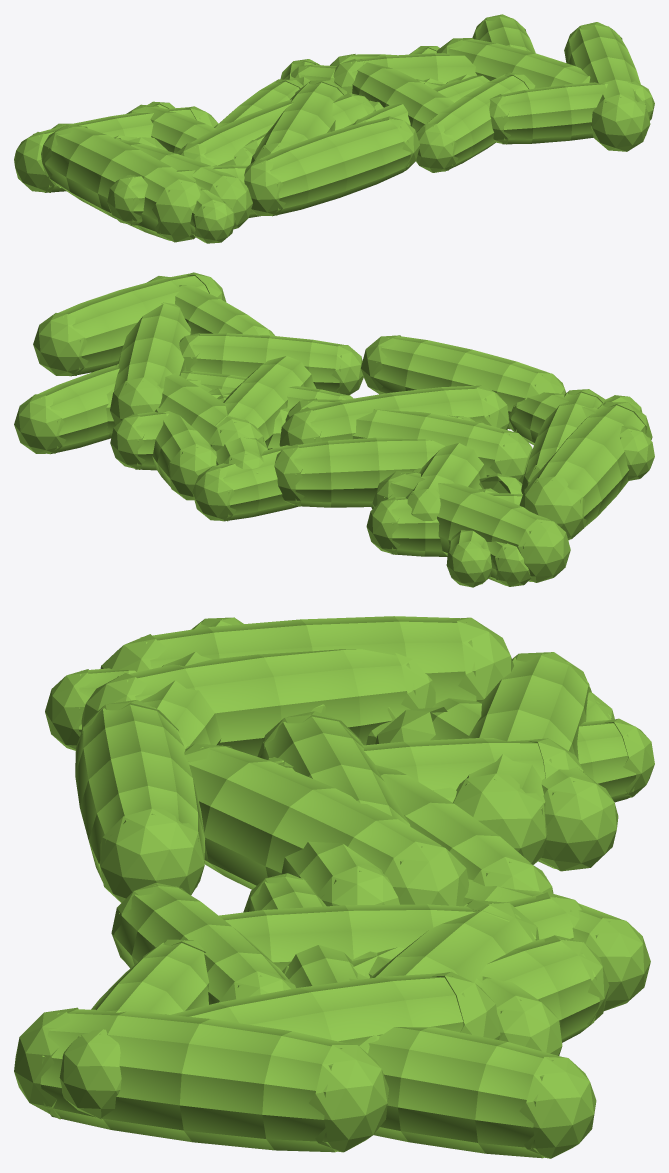
Rendered from pickle 2.fbx.
3 renders of one model, top to bottom at view 1: azimuth 30°, elevation 25°; view 2: azimuth 150°, elevation 25°; view 3: azimuth 270°, elevation 25°, orthographic. The views are drawn at different scales.
Parts seen in each view (by area): view 1: group846859389.000; view 2: group846859389.000; view 3: group846859389.000.
Boxes of the visible parts, x1,y1,x2,y2 form: group846859389.000: (14,14,654,243); group846859389.000: (14,272,654,587); group846859389.000: (14,616,654,1158).
Bounding box in the file's own units: 954 × 169 × 525.
